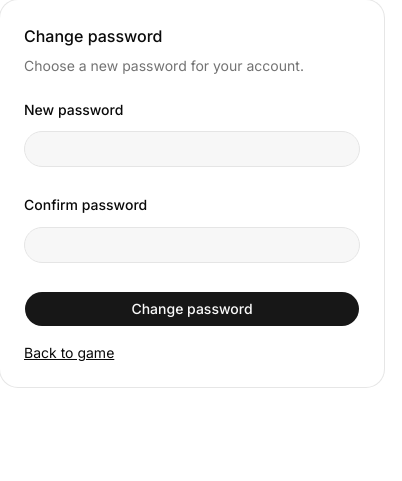
password management › keeps the form available after a provider error
Type "new-password" into the password field labelled "New password" at (192, 149), box [24,131,360,167]
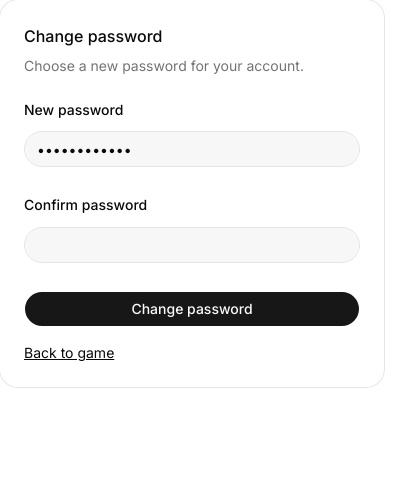
Type "new-password" into the password field labelled "Confirm password" at (192, 244), box [24,226,360,262]
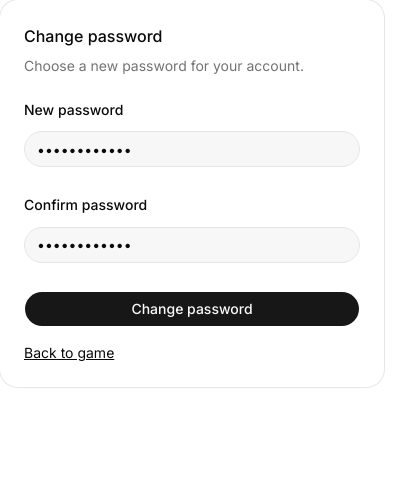
Submit the form, box [24,100,360,326]
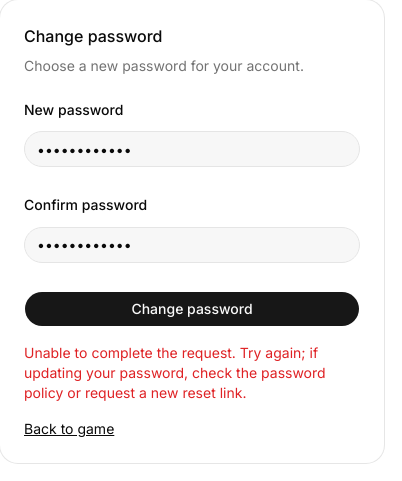
Check: the message is shown, box [24,342,360,402]
